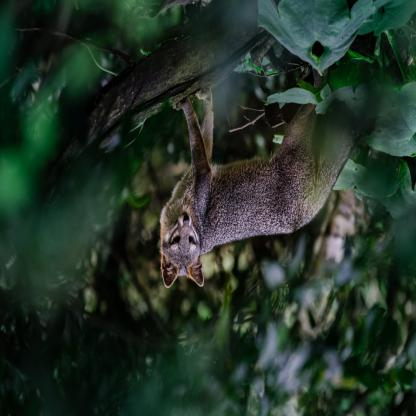zorro: (154, 72, 365, 294)
